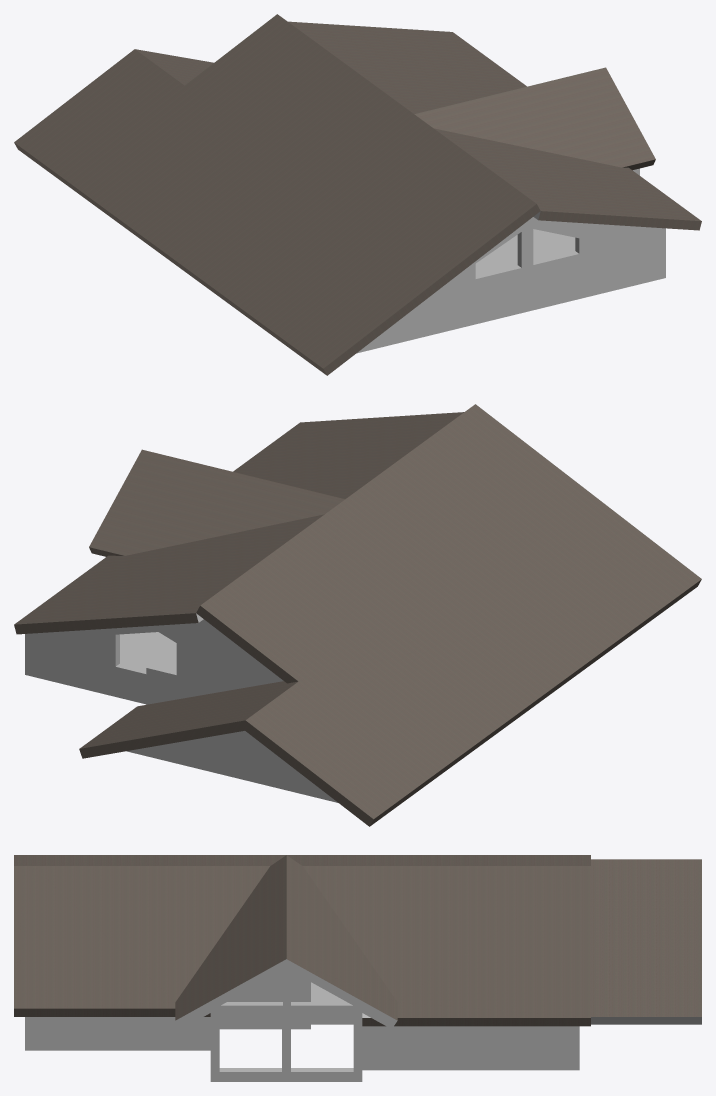
Rendered from Dachgeschoss.obj.
The picture shows the model from 3 angles, top to bottom: view 1: azimuth 30°, elevation 25°; view 2: azimuth 150°, elevation 25°; view 3: azimuth 270°, elevation 25°; orthographic projection. The views are drawn at different scales.
Visible parts, largest first — view 1: Volumenkörper2; view 2: Volumenkörper2; view 3: Volumenkörper2.
Boxes of the visible parts, x1,y1,x2,y2 form: Volumenkörper2: (14,14,701,375); Volumenkörper2: (14,404,701,826); Volumenkörper2: (14,855,701,1081).
Size of the model in its own units: 14.05 by 4.06 by 18.58.
Materials: 2 (1 with a texture image).
